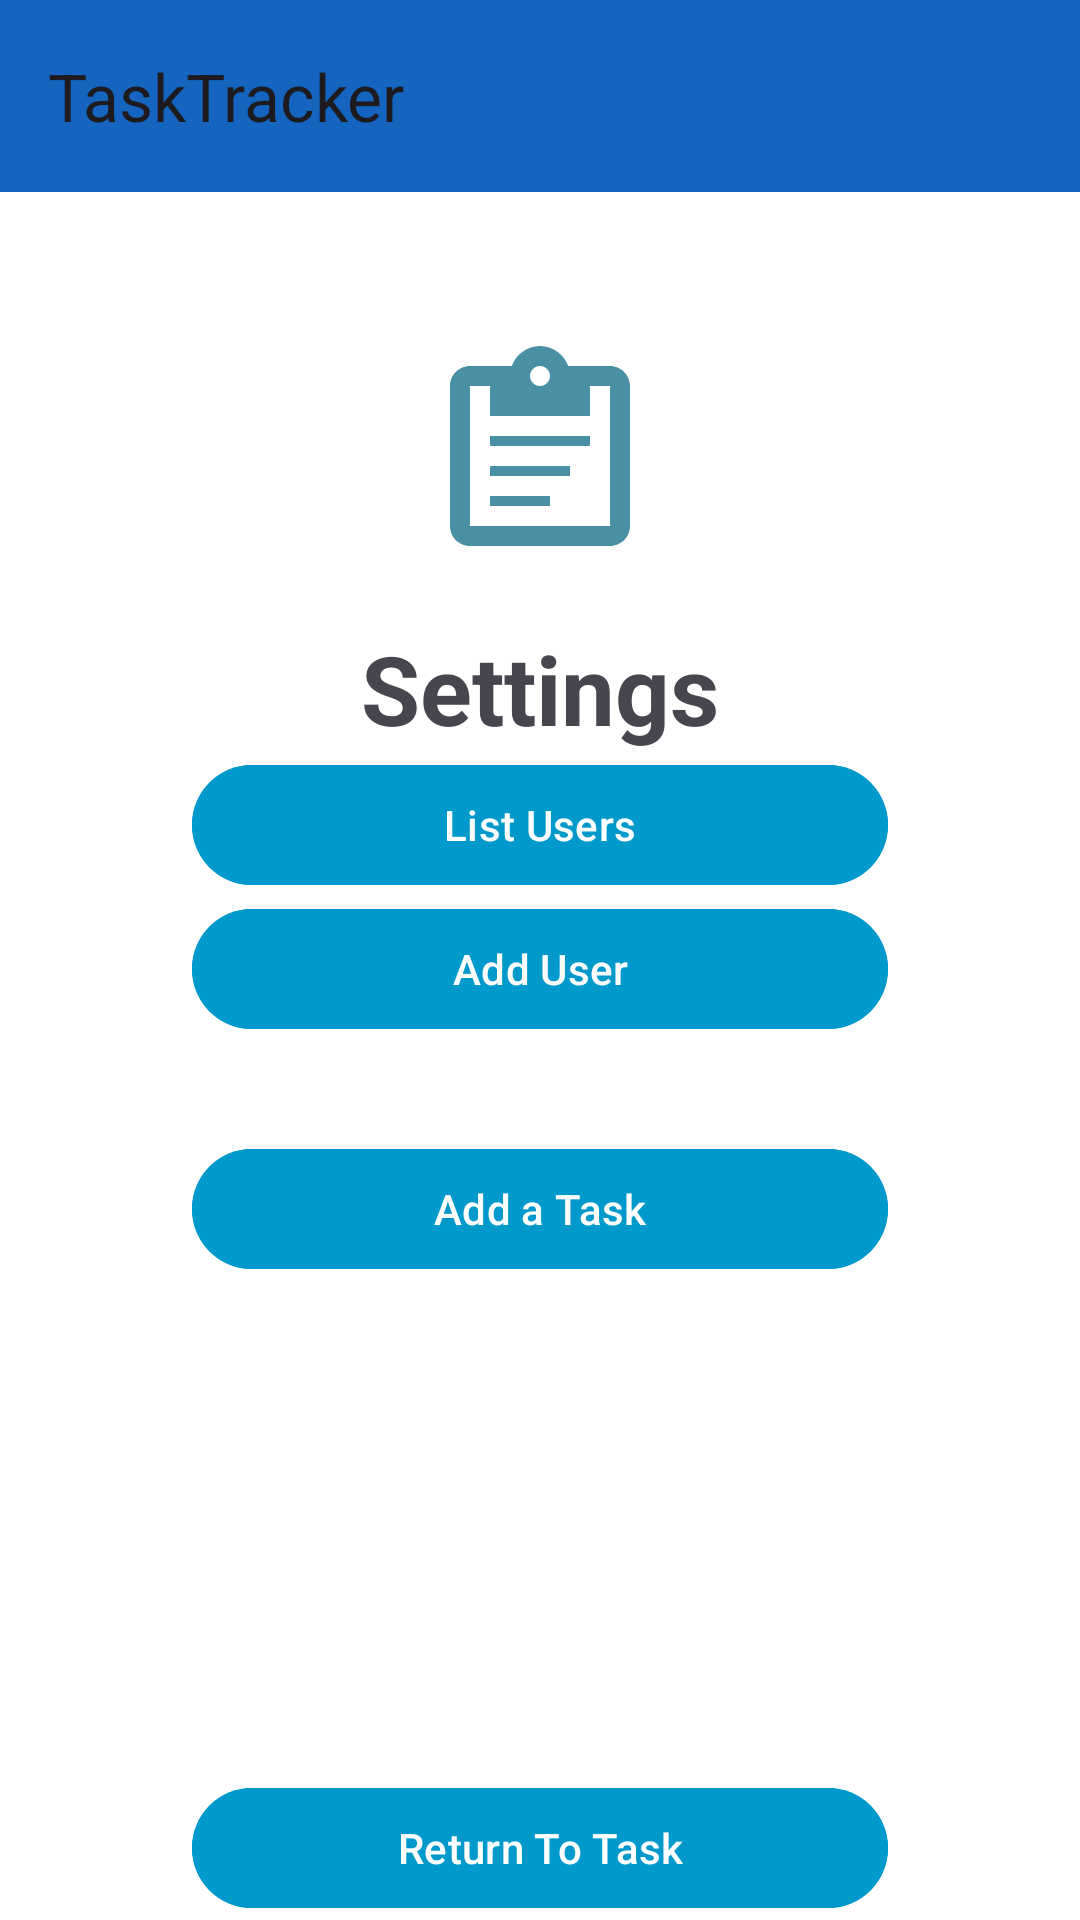

Locate icon controls on the screen. Image size 1080*1920, boxes as (x1, y1, x2, y2).
task: (450, 346, 630, 546)
